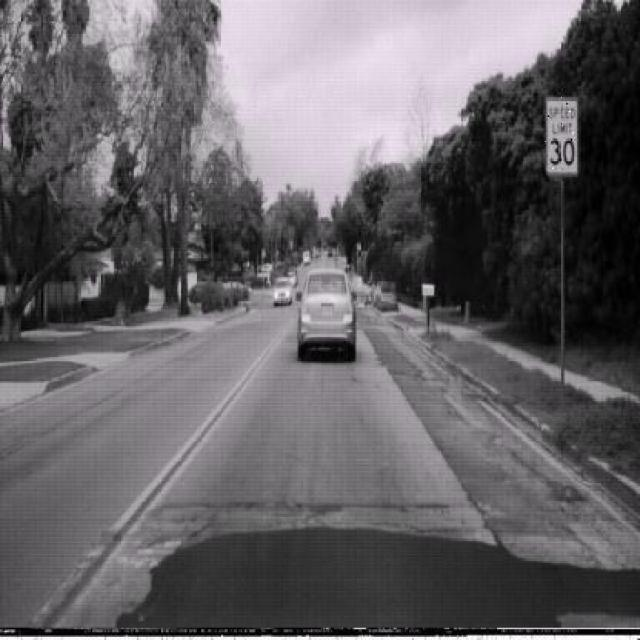speedLimit30: (544, 94, 578, 176)
